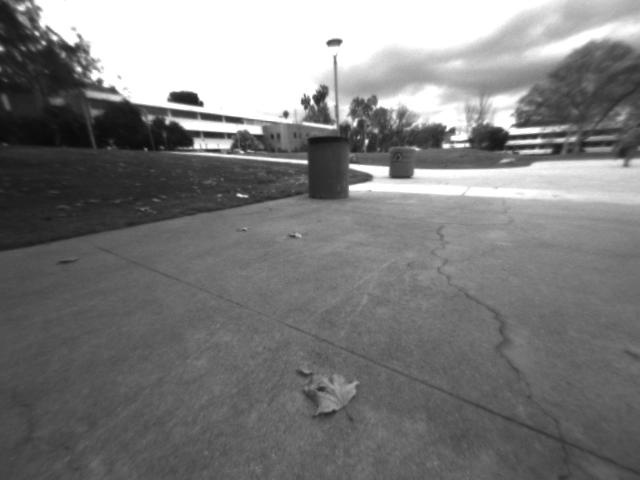trashcan: (306, 133, 351, 200), (386, 145, 413, 182)
